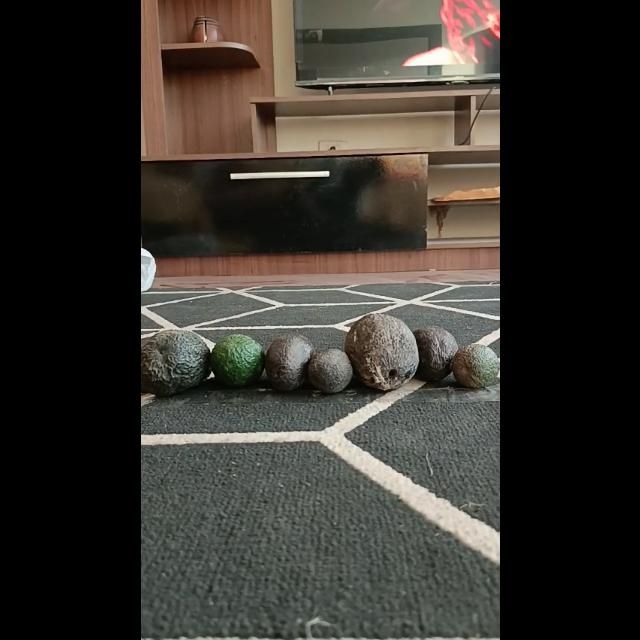Primera: (344, 312, 418, 390), (140, 329, 210, 396)
Segunda: (208, 334, 264, 386), (263, 334, 313, 391), (410, 326, 458, 380)
Tercera: (308, 348, 352, 394), (452, 344, 498, 388)
